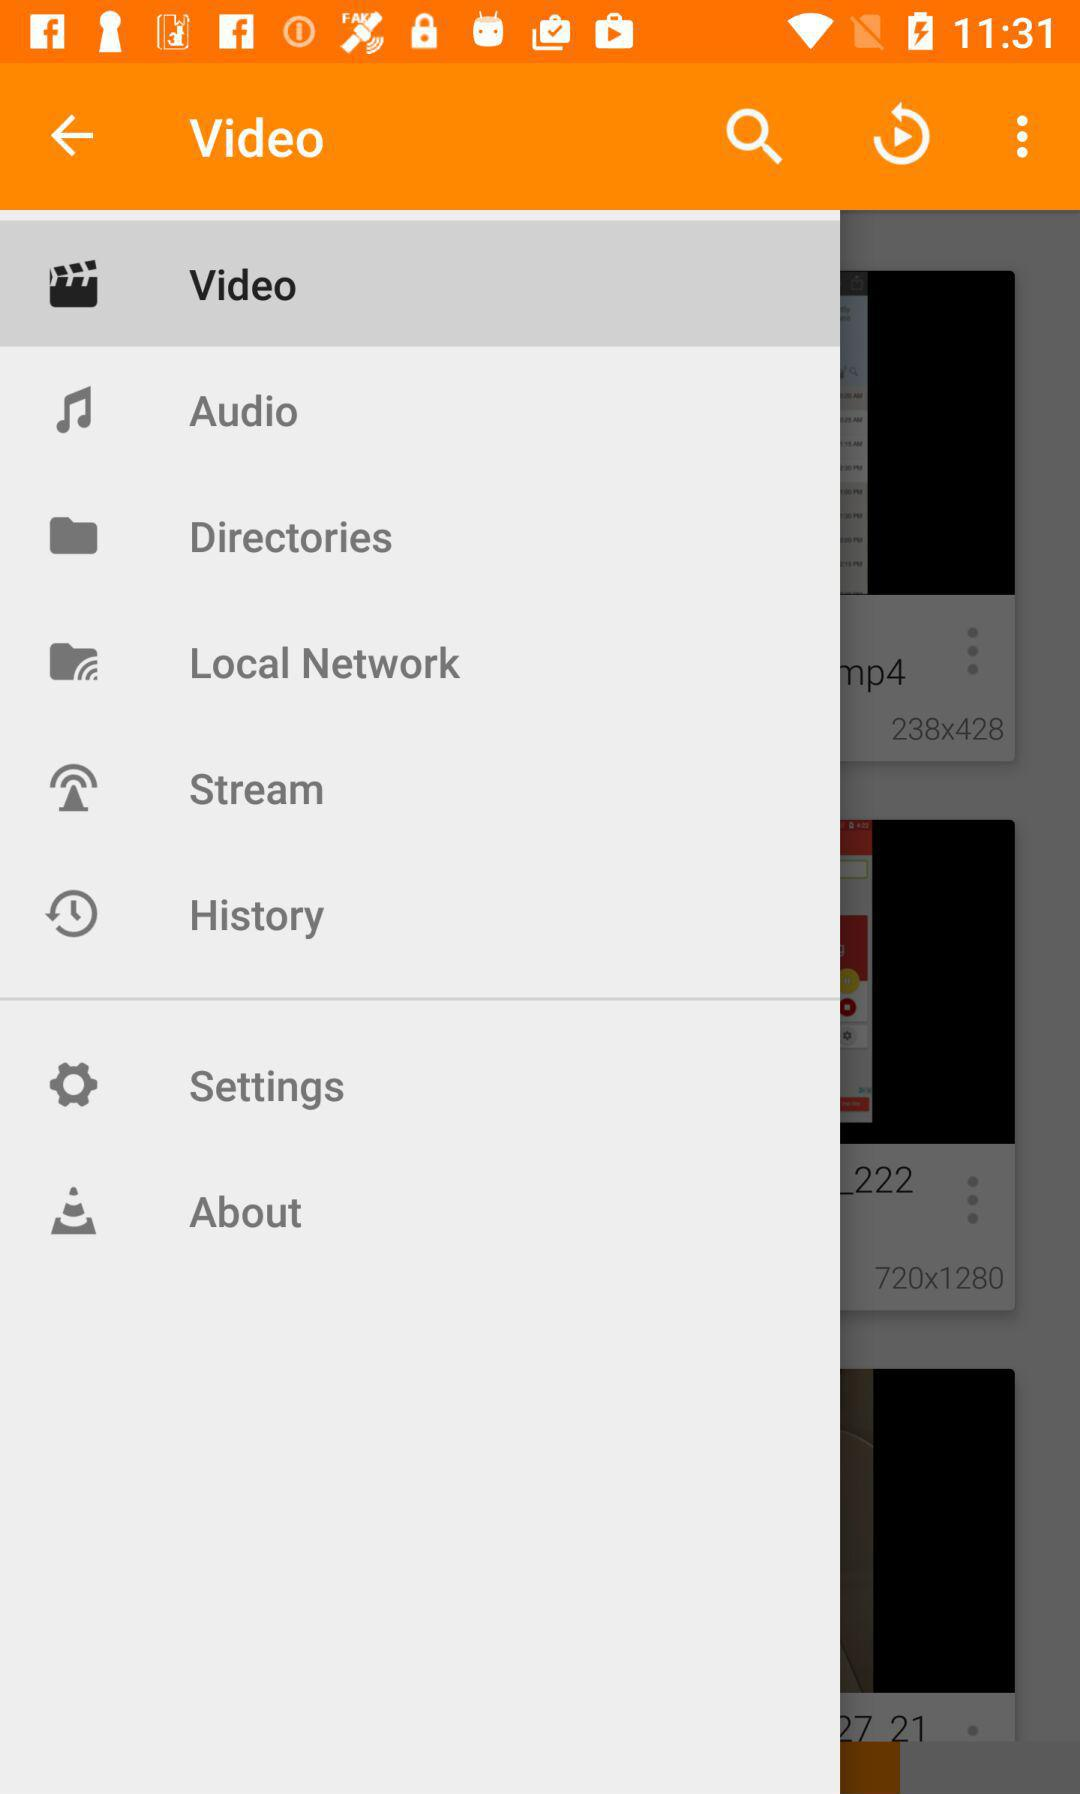Drawer: (1, 211, 840, 1794)
Icon: (872, 103, 931, 167), (724, 108, 781, 168), (44, 889, 100, 939), (49, 1062, 100, 1108), (50, 114, 96, 159), (50, 516, 99, 556), (50, 642, 99, 682), (1015, 114, 1030, 160)
Image: (49, 762, 100, 812), (49, 260, 100, 309), (50, 1185, 97, 1237), (56, 384, 94, 434)
Text: (191, 645, 462, 680), (191, 520, 395, 555), (190, 1069, 346, 1111), (188, 117, 325, 160), (191, 897, 325, 941), (190, 773, 324, 806), (190, 1194, 304, 1231), (190, 267, 299, 304), (188, 393, 299, 429)
Toolbar: (1, 67, 1080, 211)
UpperTaskBar: (1, 1, 1080, 64)
